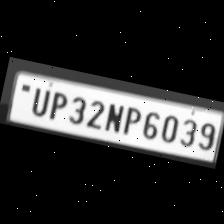0: (157, 108, 182, 142)
2: (83, 94, 106, 129)
3: (64, 90, 88, 125), (176, 112, 200, 146)
6: (137, 105, 162, 139)
9: (192, 116, 218, 150)
N: (101, 97, 125, 132)
P: (44, 86, 69, 121), (119, 102, 142, 136)
U: (26, 82, 52, 116)
